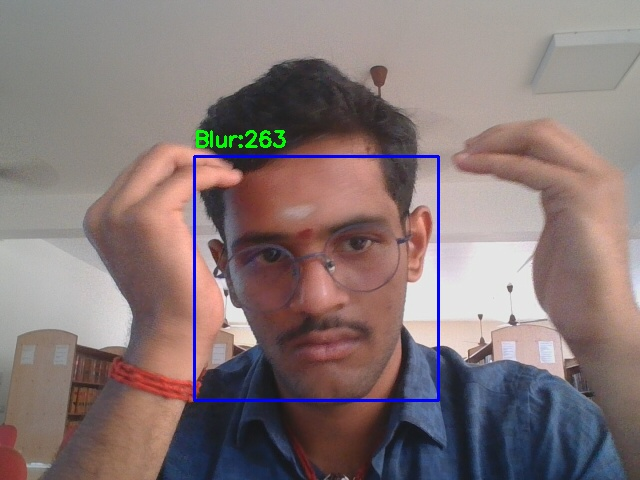real: (194, 156, 438, 400)
